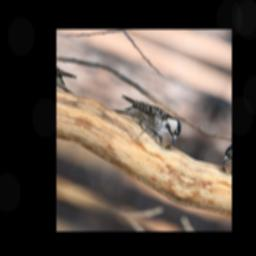Woodpecker: (107, 92, 187, 150)
